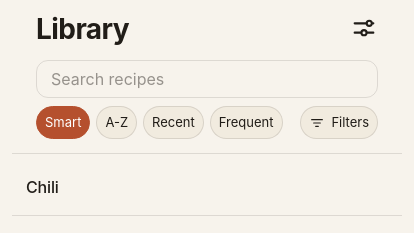
Test case: search › shows search results (title only) instead of the sorted/filtered list once a query is typed
The width and height of the screenshot is (414, 233).
Step 1. Type "chick" into the field with test id "library-search-input" → (207, 79), box [36,60,378,98]
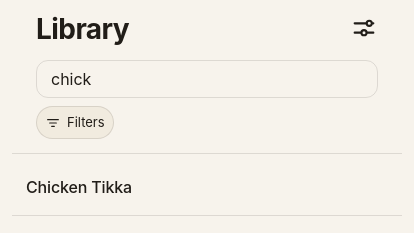
Expected: the text "Chicken Tikka" is shown, [26,177,132,197]
Expected: the button "Chili" is gone
